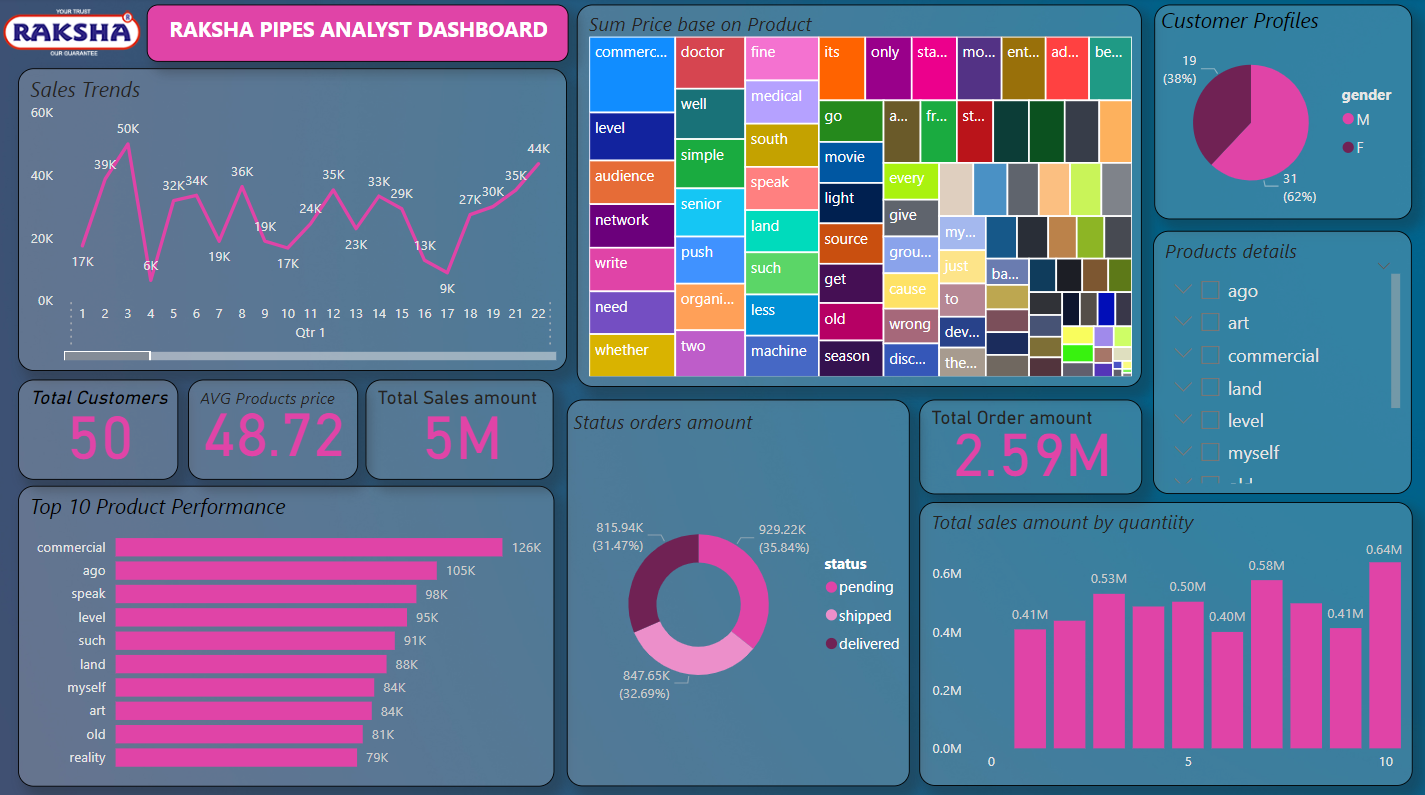

The dashboard page shown, as its layout file describes it:
{"tool":"powerbi","page":{"name":"Page 1","canvas":[1280,720],"ordinal":0},"visuals":[{"type":"lineChart","title":"Sales Trends","fields":{"Category":["raksha_pipes orders.order_date.Variation.Date Hierarchy.Quarter","raksha_pipes orders.order_date.Variation.Date Hierarchy.Day"],"Y":["Sum(raksha_pipes orders.total_amount)"]},"box":[17.9,63.5,490.1,270.1],"z":0},{"type":"barChart","title":"Top 10 Product Performance","fields":{"Category":["raksha_pipes products.product_name"],"Y":["Sum(raksha_pipes sales.sale_amount)"]},"box":[17.5,436.7,479.5,268.4],"z":1000},{"type":"pieChart","title":"Customer Profiles","fields":{"Category":["raksha_pipes customers.gender"],"Y":["CountNonNull(raksha_pipes customers.customer_id)"]},"box":[1032.9,6.8,230.5,191.6],"z":2000},{"type":"card","title":"Total Sales amount","fields":{"Values":["Sum(raksha_pipes sales.sale_amount)"]},"box":[328.8,341.4,168.3,89.5],"z":3000},{"type":"card","title":"Total Customers","fields":{"Values":["CountNonNull(raksha_pipes customers.customer_id)"]},"box":[17.5,341.4,143,89.5],"z":4000},{"type":"card","title":"Total Order amount","fields":{"Values":["Sum(raksha_pipes orders.total_amount)"]},"box":[822.9,359.9,199.4,84.6],"z":5000},{"type":"treemap","title":"Sum Price base on Product","fields":{"Group":["raksha_pipes products.product_name"],"Values":["Sum(raksha_pipes products.price)"]},"box":[517.4,6.8,504.8,341.4],"z":6000},{"type":"slicer","title":"Products details","fields":{"Values":["raksha_pipes products.product_name","raksha_pipes sales.quantity","raksha_pipes sales.sale_amount"]},"box":[1032.9,209.1,230.5,235.4],"z":7000},{"type":"donutChart","title":"Status orders amount","fields":{"Category":["raksha_pipes orders.status"],"Y":["Sum(raksha_pipes orders.total_amount)"]},"box":[507.7,359.9,306.4,345.3],"z":8000},{"type":"columnChart","title":"Total sales amount by quantiity","fields":{"Category":["raksha_pipes sales.quantity"],"Y":["Sum(raksha_pipes sales.sale_amount)"]},"box":[822.9,451.3,440.6,253.9],"z":9000},{"type":"card","title":"AVG Products price","fields":{"Values":["Avg(raksha_pipes products.price)"]},"box":[170.2,341.4,151.7,89.5],"z":10000},{"type":"textbox","box":[17.6,5.9,376.7,51.1],"z":11000},{"type":"image","box":[370.9,3.3,157.4,56.9],"z":12000}]}

Visuals, with their boxes in screenshot pixels (x1, y1, x2, y2), scaled from the page's 1280x720 canvas onto the 1425x795 screenshot:
"Sales Trends" lineChart: Rect(20, 70, 566, 368)
"Top 10 Product Performance" barChart: Rect(19, 482, 553, 779)
"Customer Profiles" pieChart: Rect(1150, 8, 1407, 219)
"Total Sales amount" card: Rect(366, 377, 553, 476)
"Total Customers" card: Rect(19, 377, 179, 476)
"Total Order amount" card: Rect(916, 397, 1138, 491)
"Sum Price base on Product" treemap: Rect(576, 8, 1138, 384)
"Products details" slicer: Rect(1150, 231, 1407, 491)
"Status orders amount" donutChart: Rect(565, 397, 906, 779)
"Total sales amount by quantiity" columnChart: Rect(916, 498, 1407, 779)
"AVG Products price" card: Rect(189, 377, 358, 476)
textbox: Rect(20, 7, 439, 63)
image: Rect(413, 4, 588, 66)
